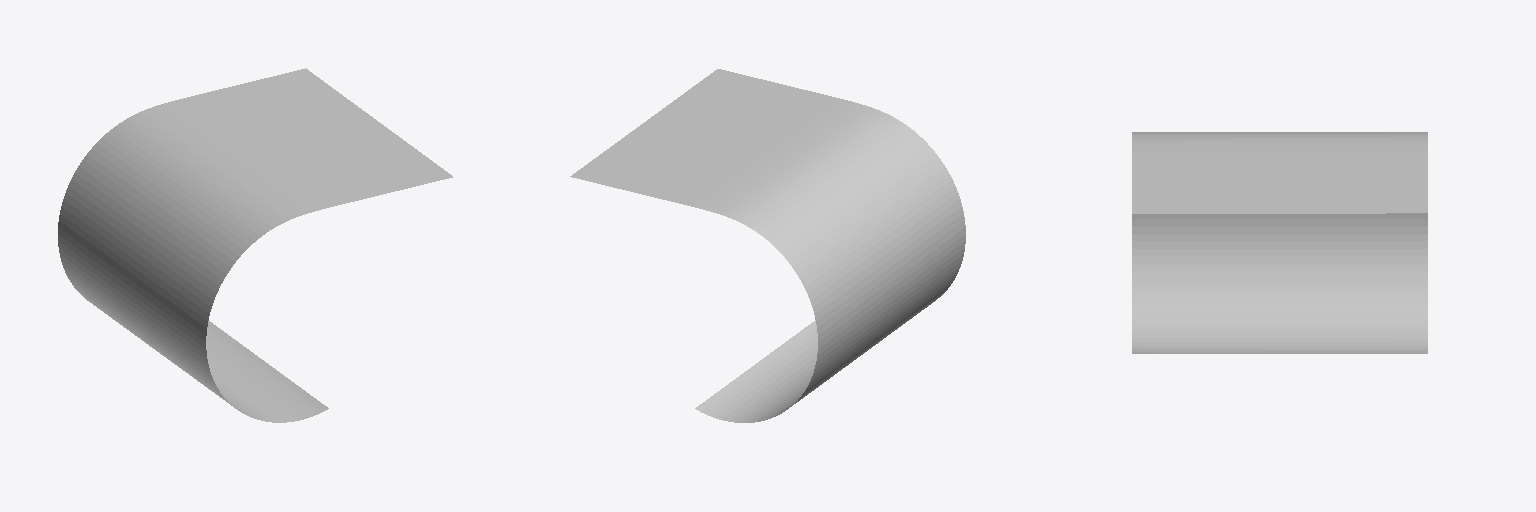
File: CurvePaper_000036.obj
The picture shows the model from 3 angles: view 1: azimuth 30°, elevation 25°; view 2: azimuth 150°, elevation 25°; view 3: azimuth 270°, elevation 25°; orthographic projection.
Visible parts, largest first — view 1: Plane; view 2: Plane; view 3: Plane.
Part boxes in pixels (bbox=[...]): Plane: bbox=[58, 68, 452, 422]; Plane: bbox=[570, 69, 965, 422]; Plane: bbox=[1132, 132, 1427, 353].
Size of the model in its own units: 2.19 by 1.74 by 2.26.